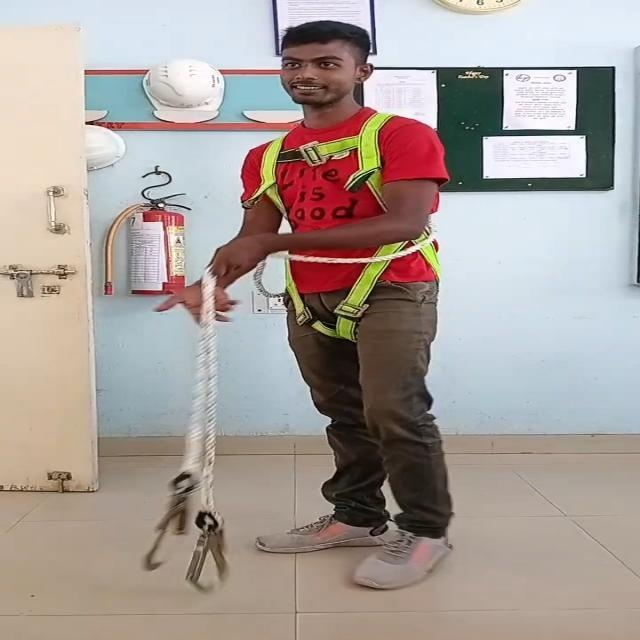Arnes_seguridad: (247, 107, 449, 349)
